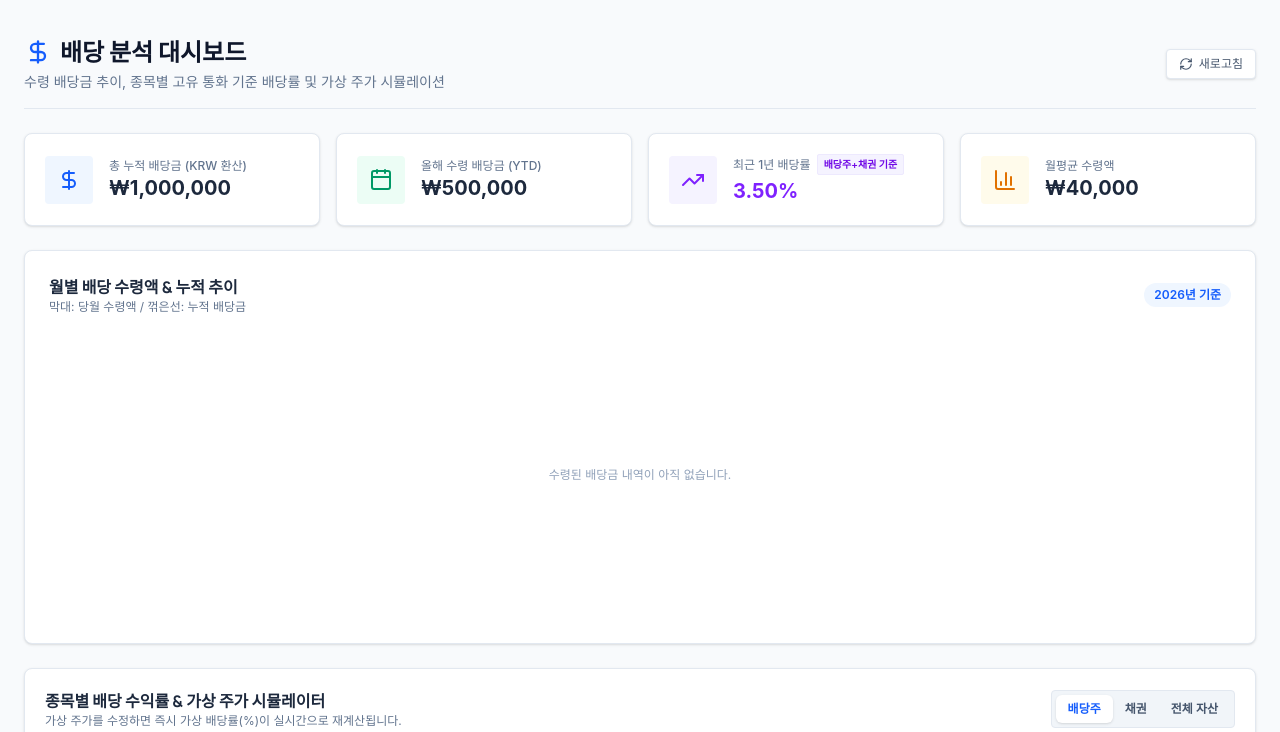
DividendAnalysisPage - 카테고리 탭 필터링 › [채권] 탭 클릭 시 채권 자산만 표에 노출된다
Step 1. Click the button "채권" → click(1136, 709), box [1113,695,1159,723]
(page scrolled)
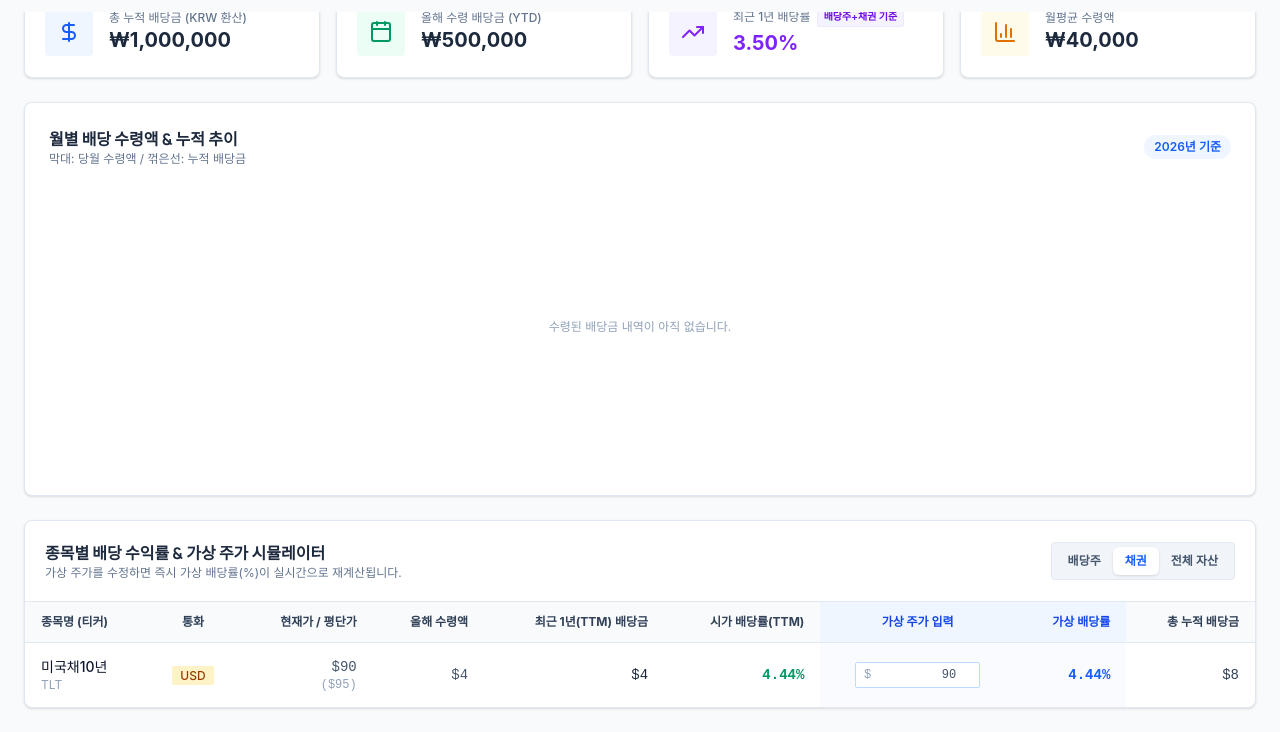
Check: the text "미국채10년" is shown, box [41,658,107,675]
